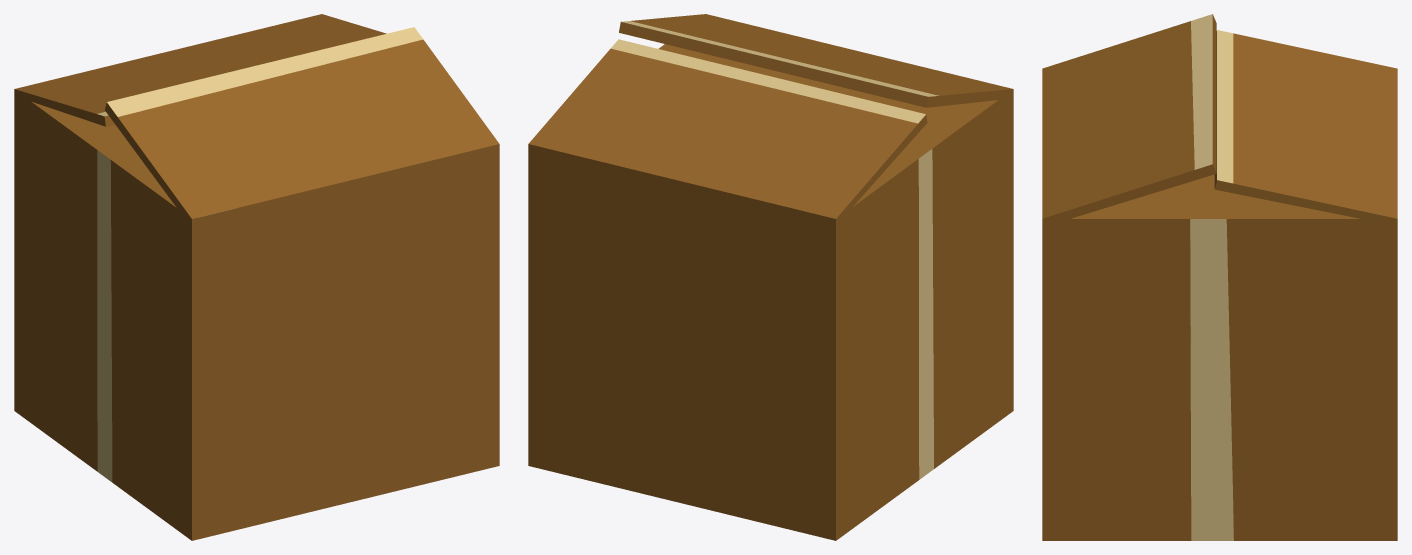
File: LootBox.fbx
The picture shows the model from 3 angles, left to right: view 1: azimuth 30°, elevation 25°; view 2: azimuth 150°, elevation 25°; view 3: azimuth 270°, elevation 25°; orthographic projection.
Visible parts, largest first — view 1: Cube; view 2: Cube; view 3: Cube.
Boxes of the visible parts, bbox=[...] form: Cube: bbox=[14, 14, 499, 540]; Cube: bbox=[528, 14, 1013, 540]; Cube: bbox=[1042, 14, 1397, 540].
Size of the model in its own units: 200 by 234 by 200.
